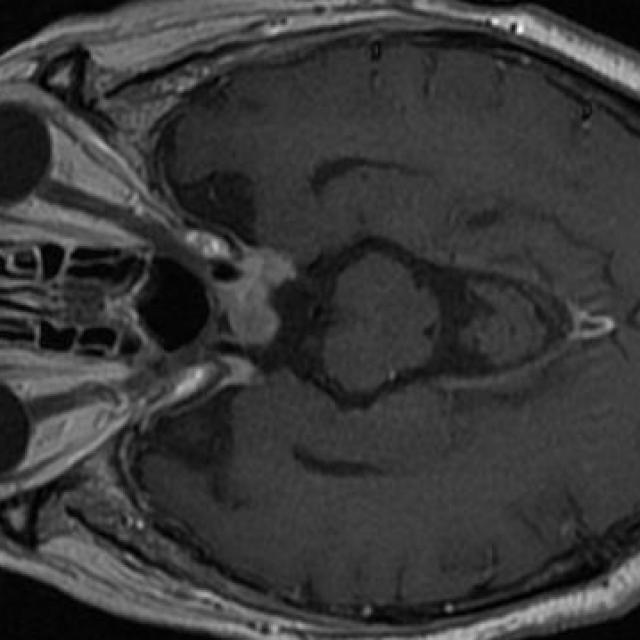pituitary: (212, 250, 296, 346)
